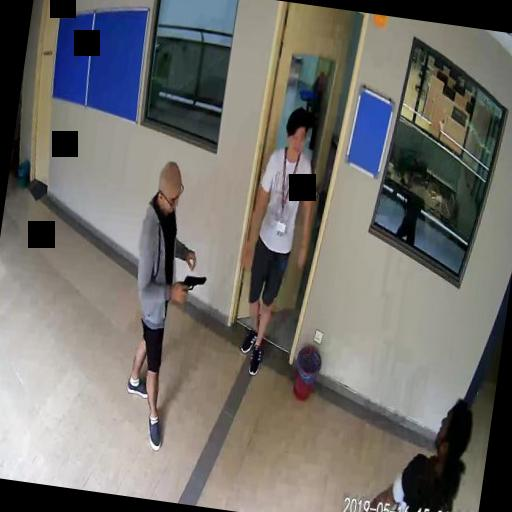Handgun: (176, 270, 205, 304)
